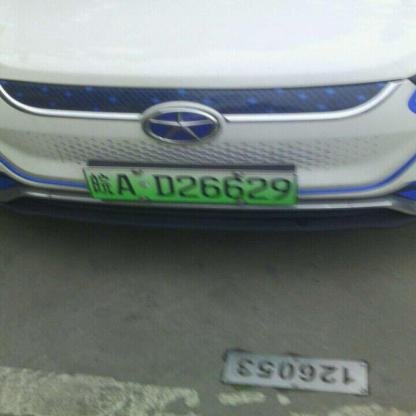lp: (83, 166, 298, 204)
